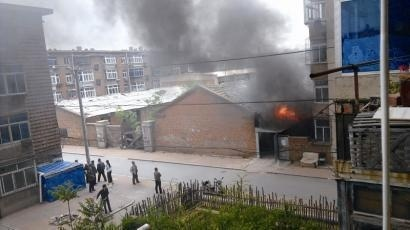fire: (276, 103, 297, 118)
